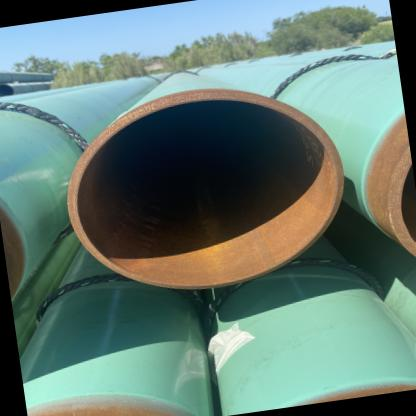clean: (178, 78, 226, 118)
